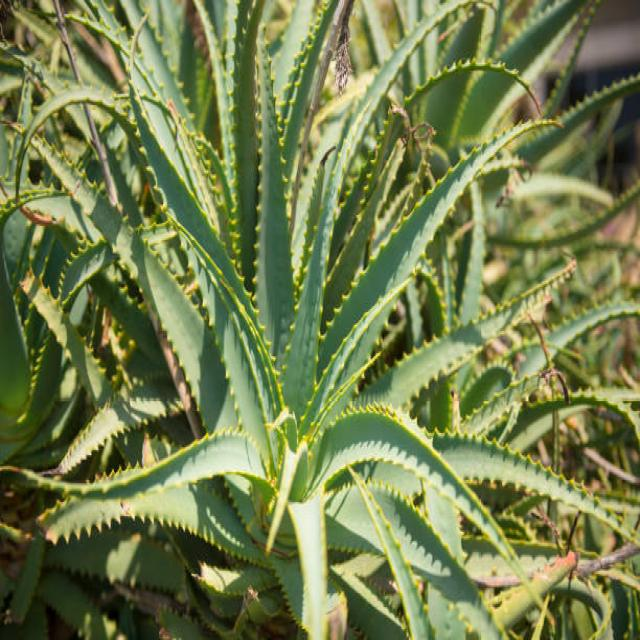AloeVera: (45, 40, 557, 606)
